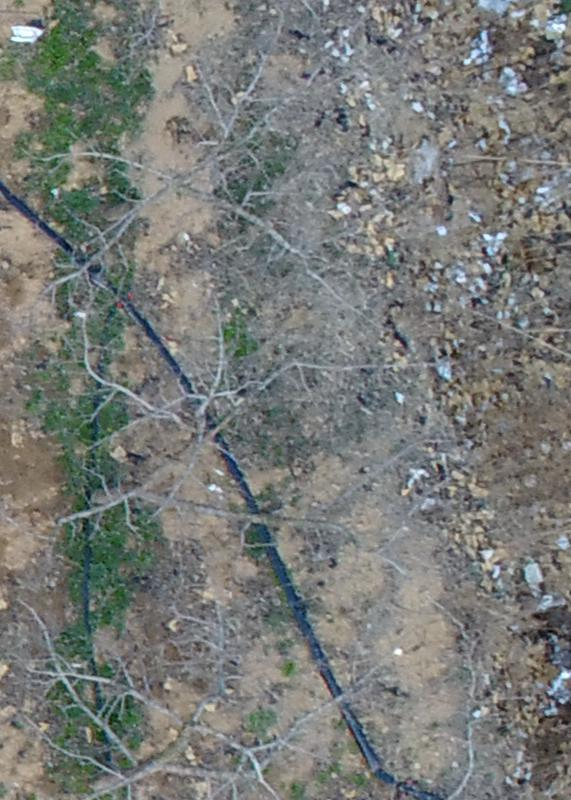apple: (34, 291, 431, 544), (17, 39, 352, 316), (10, 598, 388, 790)
